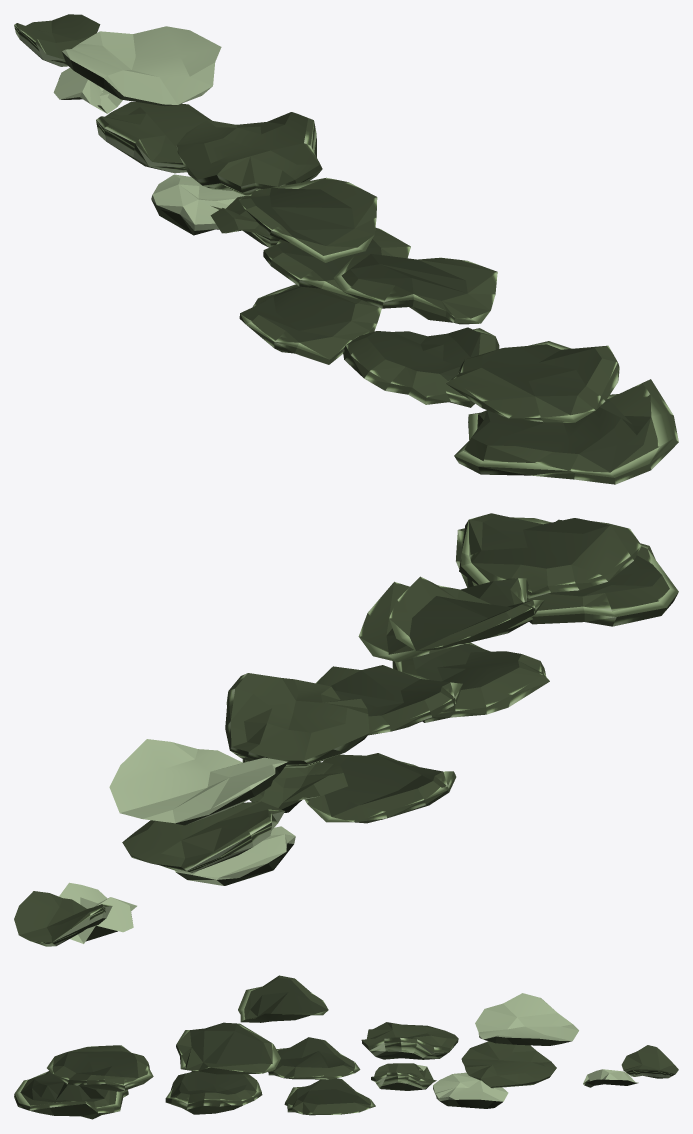
File: EA_Swamp_Fungus_04c.glb
3 renders of one model, top to bottom at view 1: azimuth 30°, elevation 25°; view 2: azimuth 150°, elevation 25°; view 3: azimuth 270°, elevation 25°, orthographic. The views are drawn at different scales.
Visible parts, largest first — view 1: EA_Swamp_Fungus_04c; view 2: EA_Swamp_Fungus_04c; view 3: EA_Swamp_Fungus_04c.
Part boxes in pixels (bbox=[...]): EA_Swamp_Fungus_04c: bbox=[14, 14, 678, 484]; EA_Swamp_Fungus_04c: bbox=[14, 513, 678, 946]; EA_Swamp_Fungus_04c: bbox=[14, 975, 678, 1119].
Bounding box in the file's own units: 0.4872 × 0.3612 × 2.03.
1 material, 1 textured.
